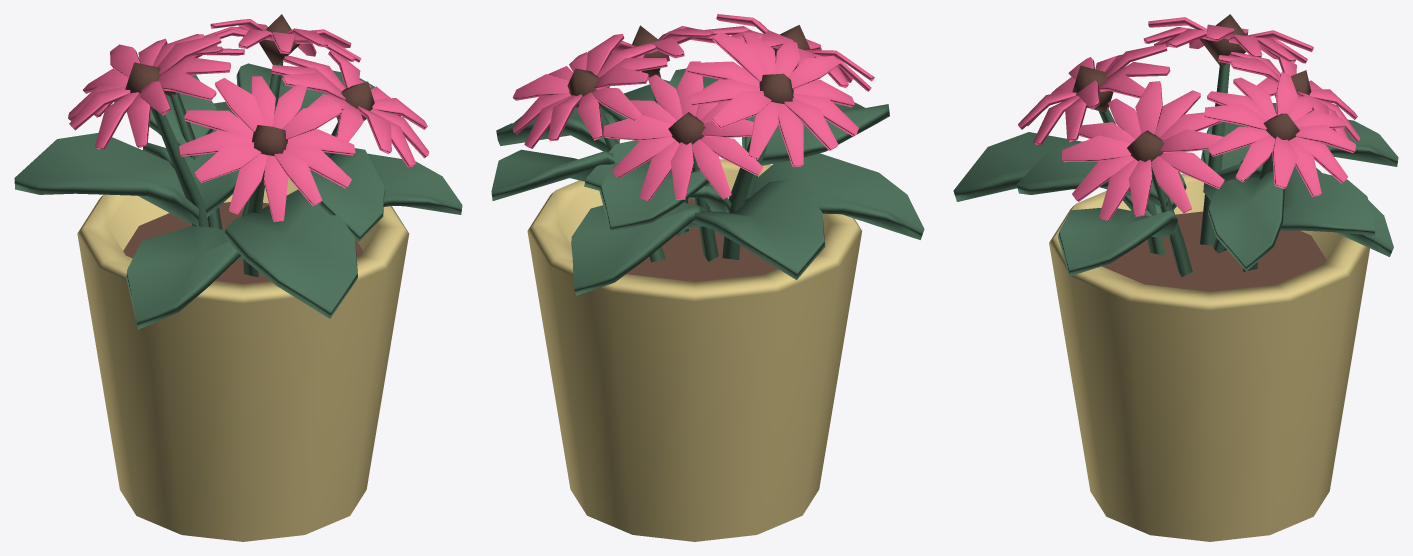
The model's file is flower_004.fbx.
3 views of the same model, side by side, from view 1: azimuth 30°, elevation 25°; view 2: azimuth 150°, elevation 25°; view 3: azimuth 270°, elevation 25° (orthographic). The views are drawn at different scales.
Parts seen in each view (by area): view 1: flower_004; view 2: flower_004; view 3: flower_004.
Part boxes in pixels (x1,y1,x2,y2): flower_004: [14, 14, 462, 541]; flower_004: [491, 14, 924, 541]; flower_004: [953, 14, 1398, 541].
Size of the model in its own units: 61.94 by 71.34 by 78.63.
